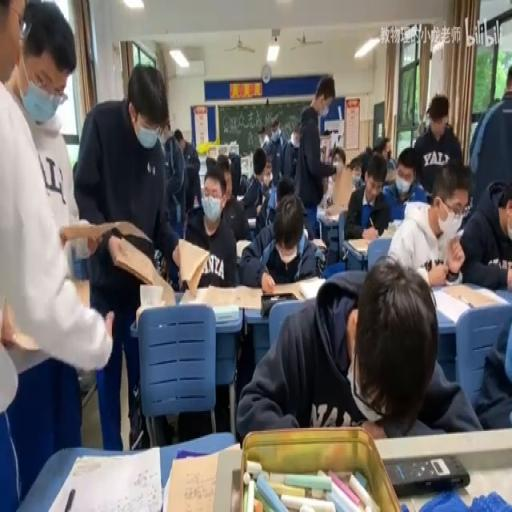calculator: (43, 445, 162, 509), (162, 442, 238, 511), (429, 283, 506, 324), (183, 281, 259, 313), (272, 278, 323, 304), (350, 234, 387, 254), (135, 303, 163, 328), (71, 276, 90, 307), (493, 286, 512, 306), (318, 205, 340, 222), (235, 238, 251, 258), (388, 219, 403, 233), (451, 225, 464, 240), (311, 238, 327, 248), (246, 215, 257, 226), (235, 192, 245, 202)
paper: (234, 258, 476, 440), (2, 2, 93, 486), (74, 60, 180, 455), (238, 188, 318, 288), (457, 173, 512, 288), (413, 91, 464, 196), (343, 150, 391, 240), (381, 145, 422, 218), (216, 155, 250, 240), (163, 128, 189, 222), (0, 0, 26, 84), (267, 112, 290, 186), (320, 145, 346, 205), (286, 124, 300, 176), (469, 111, 483, 161), (266, 181, 278, 223), (373, 135, 390, 164), (276, 175, 294, 202), (252, 148, 266, 176), (346, 152, 365, 172), (409, 183, 427, 202), (501, 70, 511, 100), (257, 124, 269, 149), (216, 154, 230, 175), (163, 134, 176, 154), (238, 173, 248, 195), (384, 166, 396, 184), (417, 117, 427, 138), (206, 144, 217, 160), (173, 129, 182, 145), (71, 160, 77, 184), (228, 149, 238, 158), (322, 129, 331, 138)
person: (386, 454, 470, 496)
